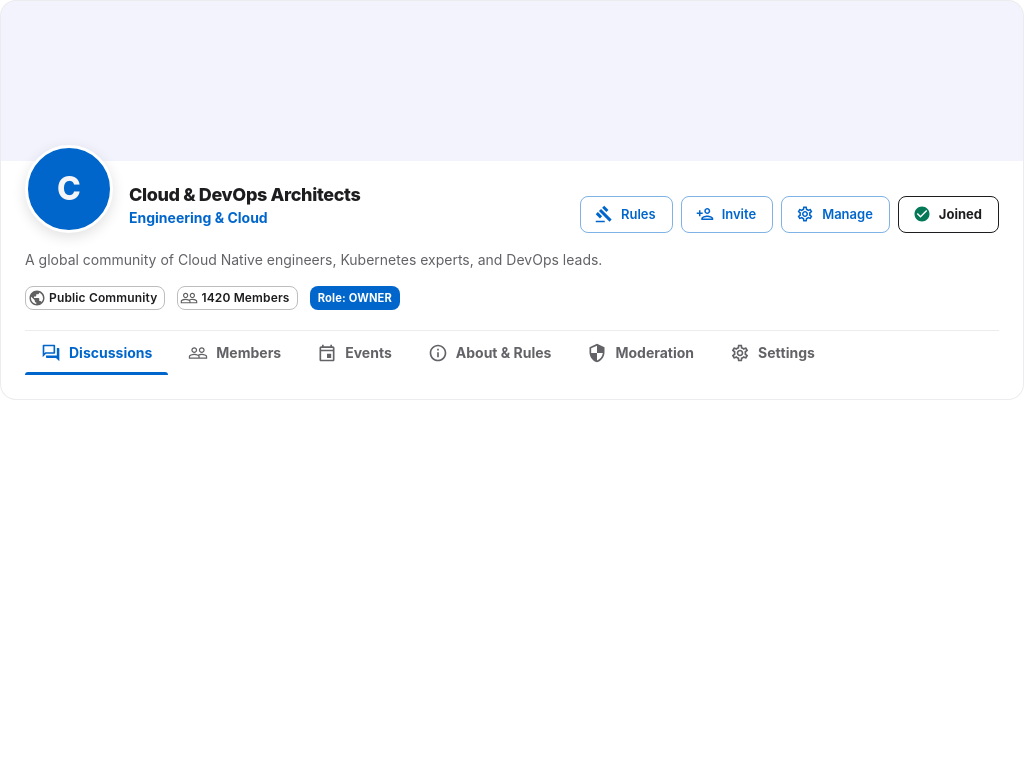
Communities & Professional Groups Experience (Prompt 22/50) › CommunityHeader Component › renders header title, navigation tabs, and rules modal button
Expected: the heading "Cloud & DevOps Architects" is shown, [129,184,360,205]
Expected: the tab "Discussions" is shown, [41,343,152,363]
Step 1. Click the button "Rules" → point(626, 214), box [580,196,673,233]
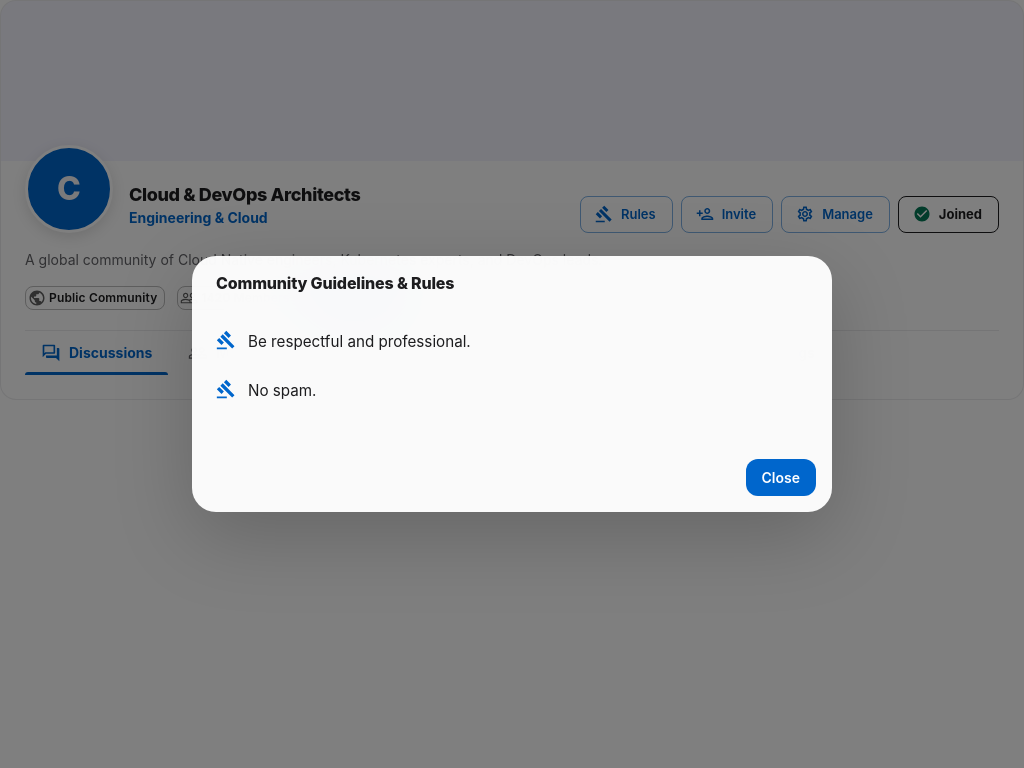
Result: the heading "Community Guidelines & Rules" is shown at [216,273,454,293]
Result: the text "Be respectful and professional." is shown at [248,332,471,351]
